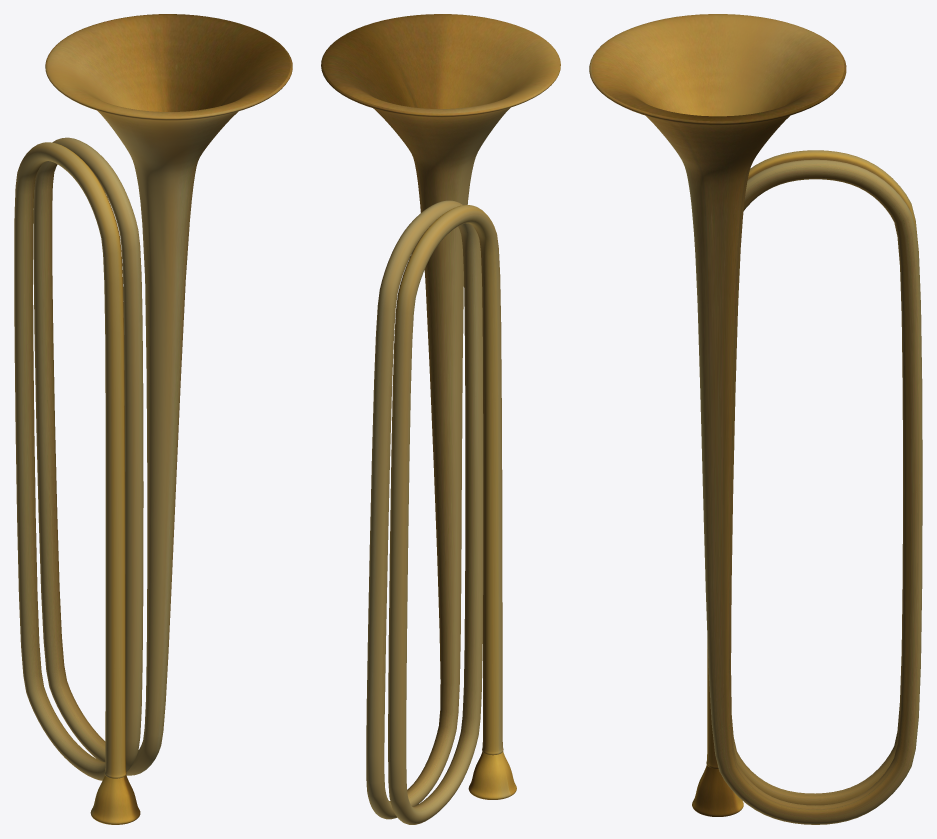
File: 10371_Bugle_v2_L3.obj
3 views of the same model, side by side, from view 1: azimuth 30°, elevation 25°; view 2: azimuth 150°, elevation 25°; view 3: azimuth 270°, elevation 25° (orthographic). The views are drawn at different scales.
Parts seen in each view (by area): view 1: 10371_Bugle_v02; view 2: 10371_Bugle_v02; view 3: 10371_Bugle_v02.
Boxes of the visible parts, box(x1,y1,x2,y2) form: 10371_Bugle_v02: box(14, 14, 292, 824); 10371_Bugle_v02: box(321, 14, 560, 824); 10371_Bugle_v02: box(589, 14, 922, 824).
Bounding box in the file's own units: 12.81 × 42.21 × 16.61.
Materials: 1 (1 with a texture image).
